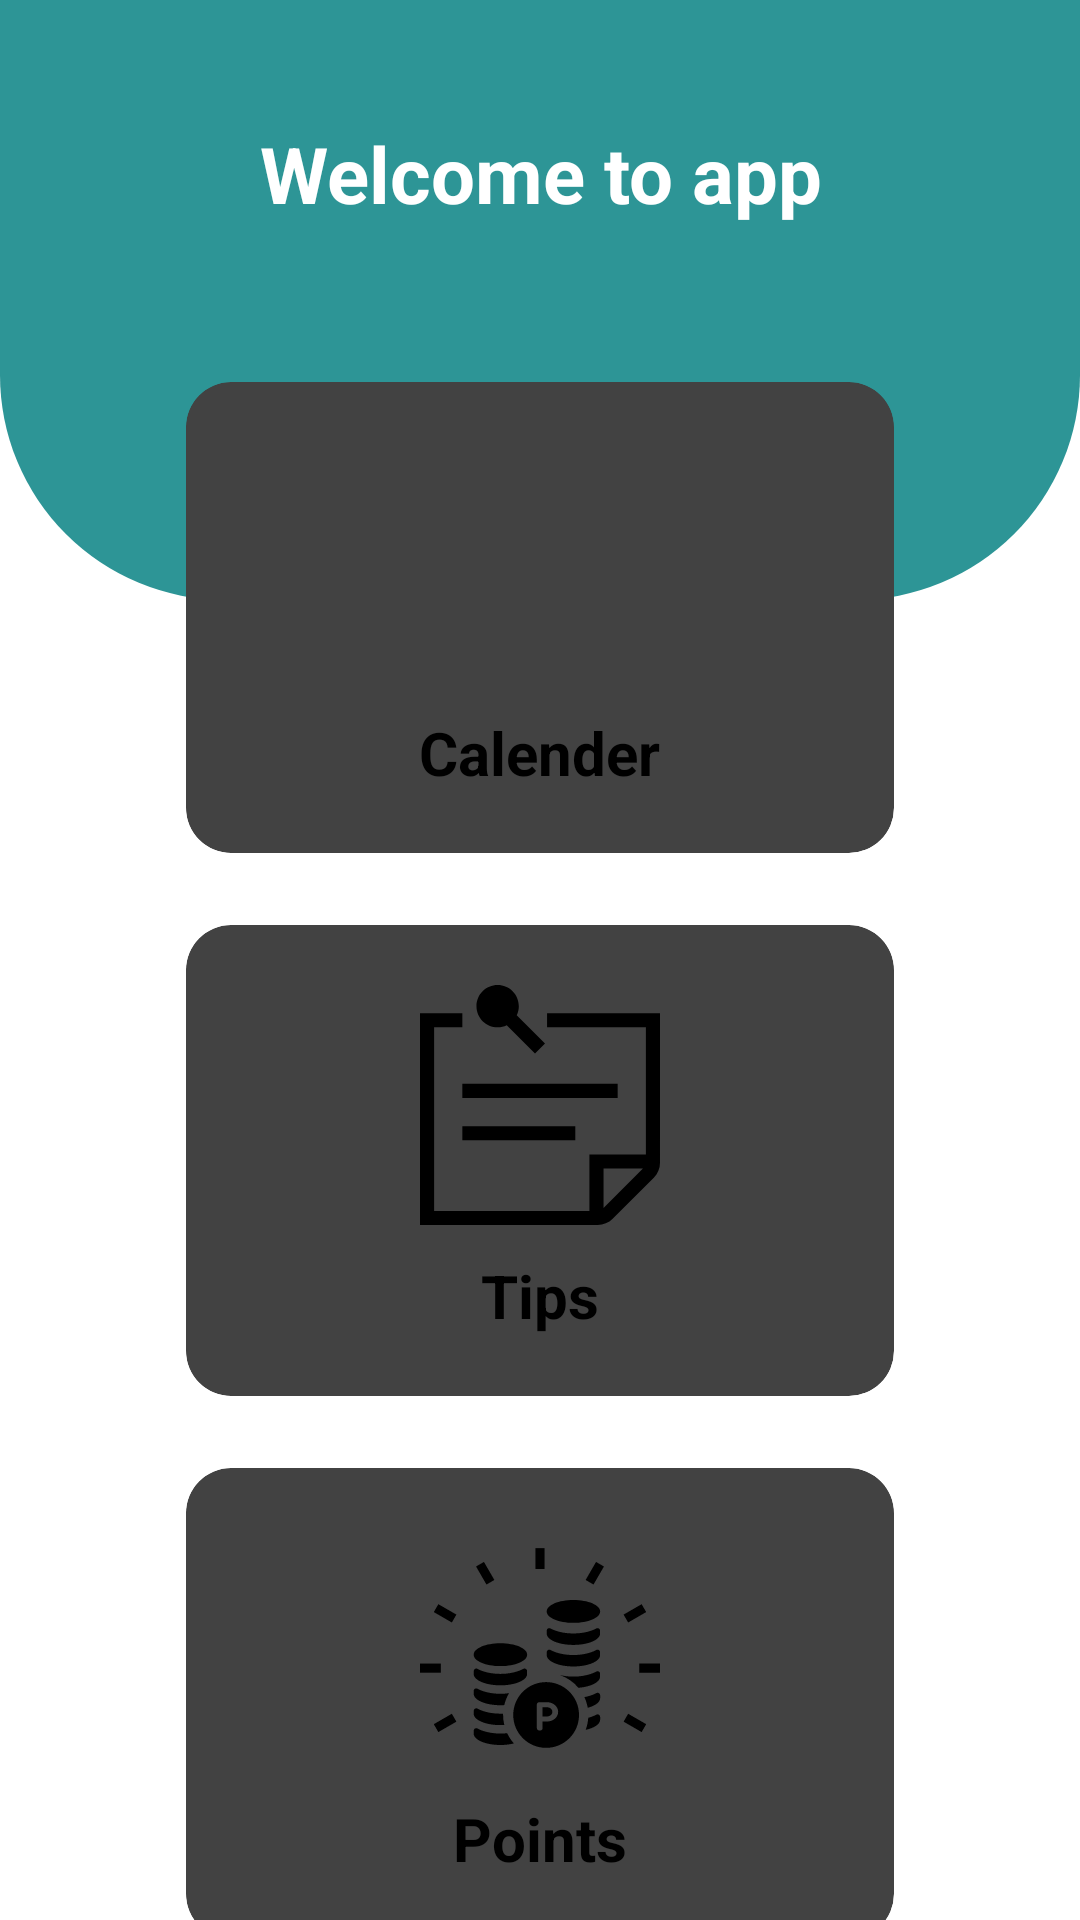

Icon click points for this 1080w x 1920h phone screenshot, format [x,y]:
note: [540,1105]
